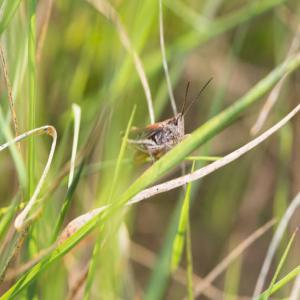locust: (100, 69, 212, 166)
